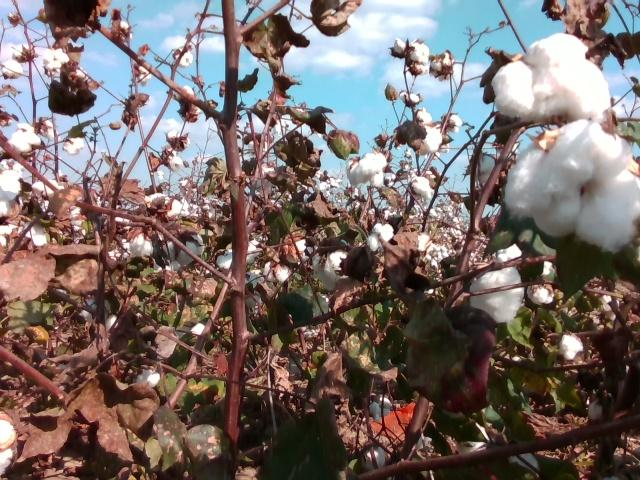cotton_ready: (506, 120, 640, 257), (490, 33, 610, 122), (470, 268, 525, 326), (344, 150, 386, 188), (314, 248, 352, 290), (391, 37, 429, 67), (0, 167, 22, 218), (413, 124, 443, 155), (0, 419, 15, 478)
